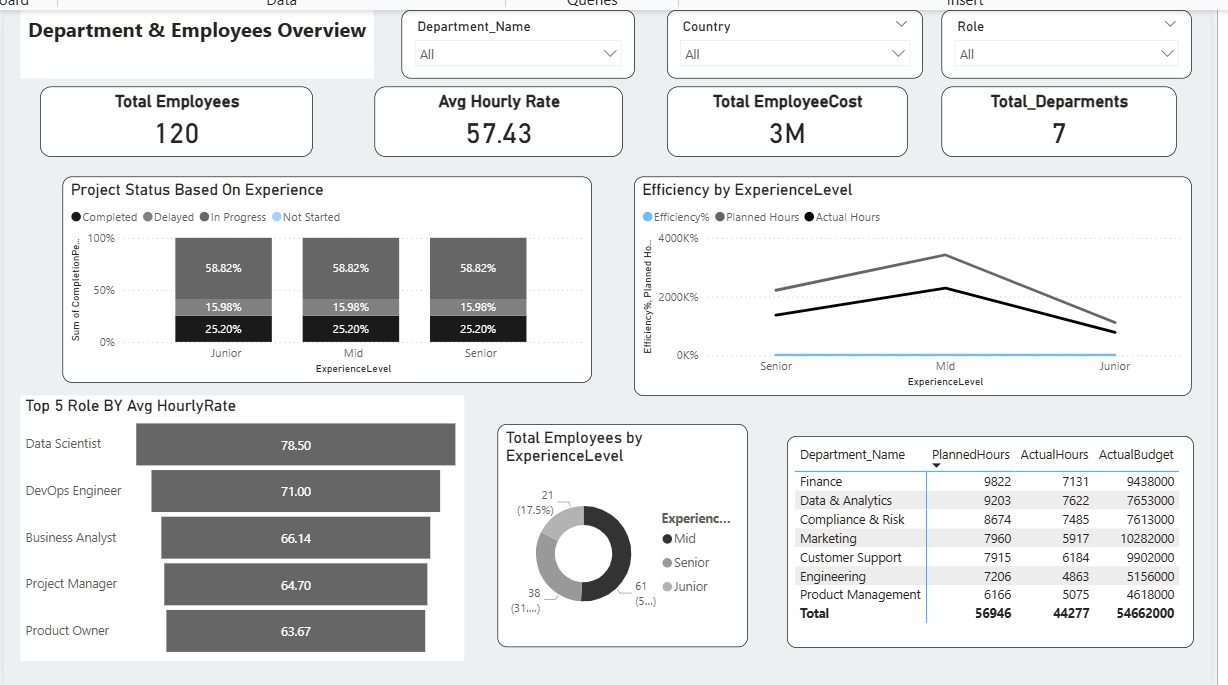

What the dashboard file says about the page in this screenshot:
{"tool":"powerbi","page":{"name":"Employee,Cost & Dpt Insights","canvas":[1280,720],"ordinal":1},"visuals":[{"type":"pivotTable","title":"Planned Hours VS Actual Hours by country","fields":{"Values":["Sum(Tasks.PlannedHours)","Sum(Tasks.ActualHours)","measure.ActualBudget"],"Rows":["Departments.Department_Name"]},"box":[830.4,451.6,431.4,224.8],"z":0},{"type":"card","title":"Total Employees","fields":{"Values":["measure.Total_Emplyees"]},"box":[38.5,81,289.6,74.9],"z":1000},{"type":"card","title":"Avg Hourly Rate","fields":{"Values":["measure.Avg_HourlyRate"]},"box":[392.9,81,263.3,74.9],"z":2000},{"type":"card","title":"Total EmployeeCost","fields":{"Values":["measure.Total_EmployeeCost"]},"box":[702.8,81,255.2,74.9],"z":3000},{"type":"hundredPercentStackedColumnChart","title":"Project Status Based On Experience","fields":{"Category":["Employees.ExperienceLevel"],"Y":["Sum(Projects.CompletionPercentage)"],"Series":["Projects.Status"]},"box":[62.8,176.2,561,218.7],"z":4000},{"type":"card","title":"Total_Deparments","fields":{"Values":["measure.Total_Departments"]},"box":[994.4,81,249.1,74.9],"z":5000},{"type":"textbox","box":[18.2,0,374.7,72.9],"z":6000},{"type":"slicer","fields":{"Values":["Departments.Department_Name"]},"box":[421.3,0,247.1,72.9],"z":7000},{"type":"slicer","fields":{"Values":["Employees.Country"]},"box":[702.8,0,271.4,72.9],"z":8000},{"type":"slicer","fields":{"Values":["Employees.Role"]},"box":[994.4,0,265.3,72.9],"z":9000},{"type":"lineChart","title":"Efficiency by ExperienceLevel","fields":{"Category":["Employees.ExperienceLevel"],"Y":["measure.PERcentage","measure.Planned Hours","measure.Actual Hours"]},"box":[668.4,176.2,591.4,232.9],"z":10000},{"type":"donutChart","title":"Total Employees by ExperienceLevel","fields":{"Y":["measure.Total_Employees"],"Category":["Employees.ExperienceLevel"]},"box":[522.5,439.5,265.3,237],"z":11000},{"type":"funnel","title":"Top 5 Role BY Avg HourlyRate","fields":{"Category":["Employees.Role"],"Y":["measure.Avg_HourlyRate"]},"box":[17.5,408.8,470.8,281.5],"z":12000}]}

Visuals, with their boxes on the page's 1280x720 design canvas (x1, y1, x2, y2). These are canvas units, not pixel positions in the 1228x685 screenshot, which may show the page scaled, cropped or inside an application window:
"Planned Hours VS Actual Hours by country" pivotTable: <bbox>830, 452, 1262, 676</bbox>
"Total Employees" card: <bbox>38, 81, 328, 156</bbox>
"Avg Hourly Rate" card: <bbox>393, 81, 656, 156</bbox>
"Total EmployeeCost" card: <bbox>703, 81, 958, 156</bbox>
"Project Status Based On Experience" hundredPercentStackedColumnChart: <bbox>63, 176, 624, 395</bbox>
"Total_Deparments" card: <bbox>994, 81, 1244, 156</bbox>
textbox: <bbox>18, 0, 393, 73</bbox>
slicer - Departments.Department_Name: <bbox>421, 0, 668, 73</bbox>
slicer - Employees.Country: <bbox>703, 0, 974, 73</bbox>
slicer - Employees.Role: <bbox>994, 0, 1260, 73</bbox>
"Efficiency by ExperienceLevel" lineChart: <bbox>668, 176, 1260, 409</bbox>
"Total Employees by ExperienceLevel" donutChart: <bbox>522, 440, 788, 676</bbox>
"Top 5 Role BY Avg HourlyRate" funnel: <bbox>18, 409, 488, 690</bbox>
